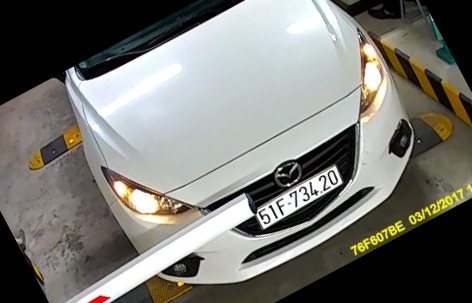plate: (249, 169, 340, 230)
